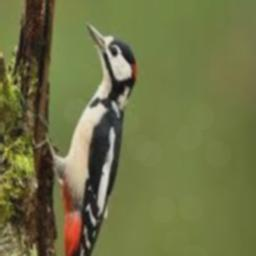Woodpecker: (32, 20, 135, 256)
